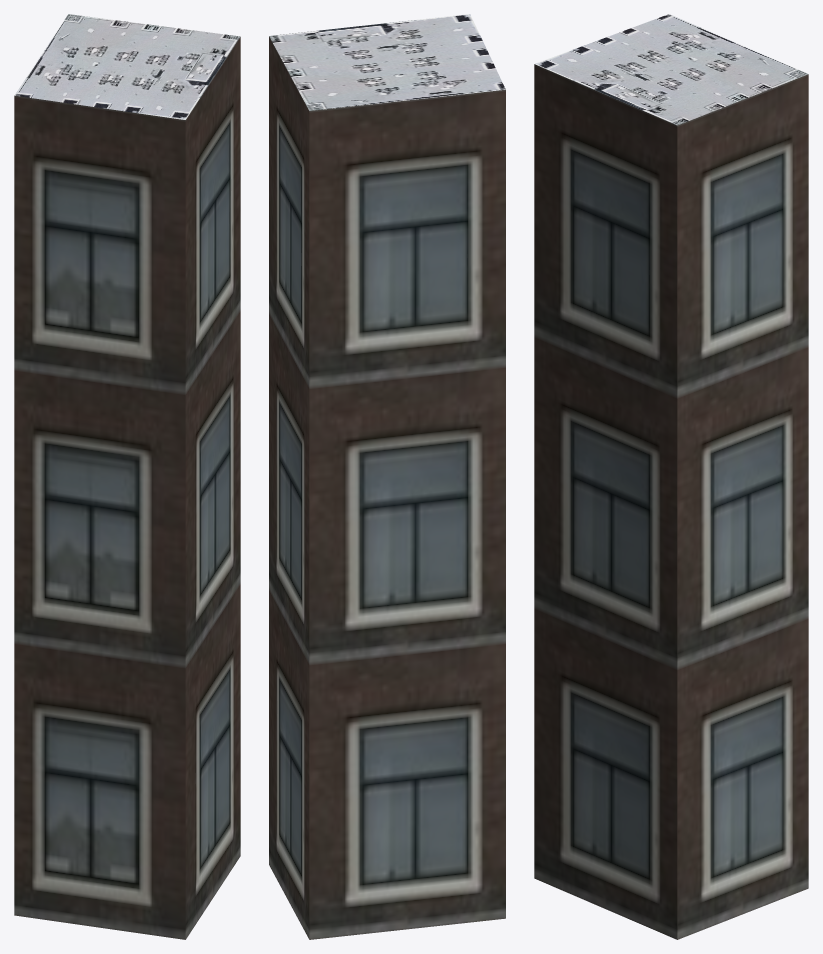
The model's file is ResTex__1257.fbx.
3 views of the same model, side by side, from view 1: azimuth 30°, elevation 25°; view 2: azimuth 150°, elevation 25°; view 3: azimuth 270°, elevation 25° (orthographic).
Parts seen in each view (by area): view 1: CityEngineMaterial_16_m, CityEngineMaterial_15_m; view 2: CityEngineMaterial_16_m, CityEngineMaterial_15_m; view 3: CityEngineMaterial_16_m, CityEngineMaterial_15_m.
Boxes of the visible parts, box(x1,y1,x2,y2) form: CityEngineMaterial_16_m: box(14, 37, 240, 939); CityEngineMaterial_15_m: box(14, 14, 240, 119); CityEngineMaterial_16_m: box(269, 36, 505, 939); CityEngineMaterial_15_m: box(269, 14, 505, 110); CityEngineMaterial_16_m: box(534, 64, 808, 939); CityEngineMaterial_15_m: box(535, 14, 808, 125).
Bounding box in the file's own units: 2.64 × 9 × 2.75.
Materials: 2 (2 with a texture image).
